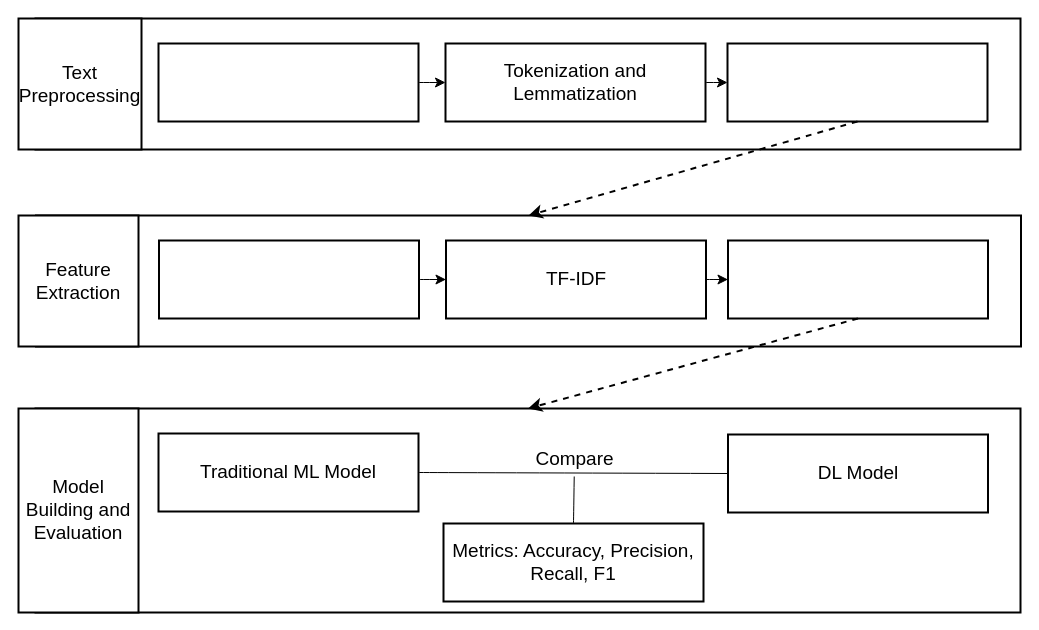
Some shapes in this 1039 by 630 pixel diagram are drawn without their labels. The centre of each missing label's shape, as x and y in pixels:
"Chinese word segmentation if needed" goes at point (857, 82).
"Embeddings Word2Vec and BERT" goes at point (857, 279).
"N-gram model" goes at point (289, 279).
"Remove symbols and stop words" goes at point (288, 82).
